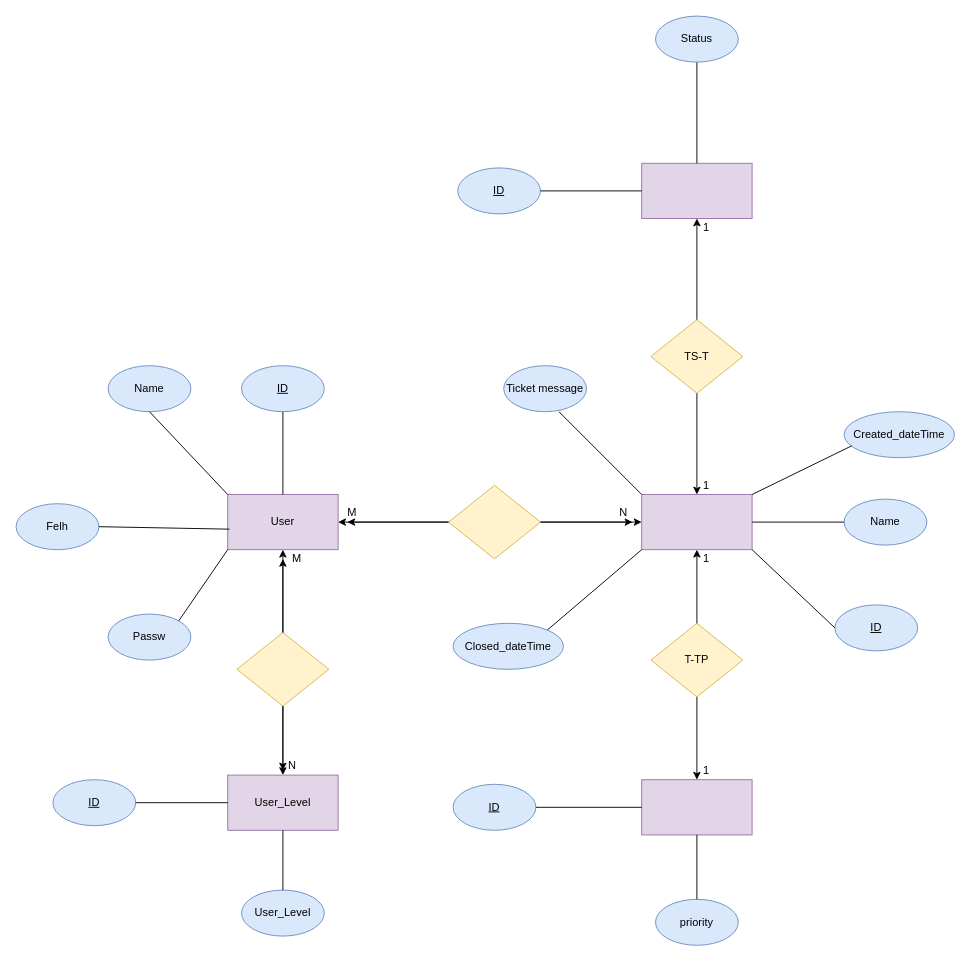
Some shapes in this 971 by 961 pixel diagram are drawn without their labels. The centre of each missing label's shape, as x and y in pixels:
Ticket: (x=696, y=522)
Ticket priority: (x=696, y=807)
Ticket Status: (x=696, y=190)
U-T: (x=494, y=521)
U_UL: (x=282, y=669)
